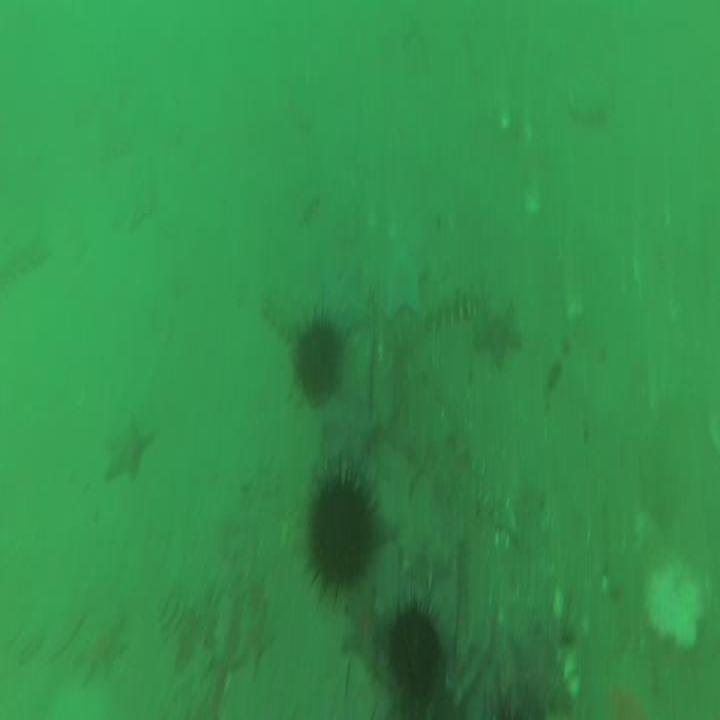echinus: (307, 482, 372, 586), (389, 612, 441, 694), (295, 325, 339, 402)
holothurian: (419, 284, 479, 332), (263, 294, 303, 342)
scallop: (642, 562, 705, 649)
starfish: (341, 586, 381, 668), (73, 618, 122, 684), (102, 418, 151, 482), (383, 250, 424, 316), (473, 304, 518, 364), (329, 266, 371, 330), (236, 613, 273, 672)
